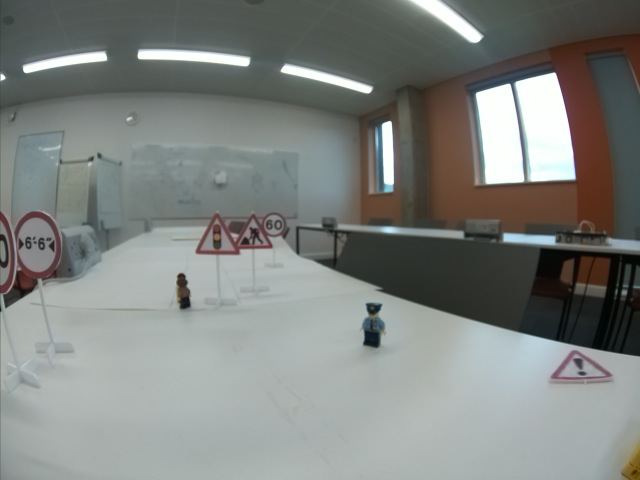60mph: (261, 213, 287, 237)
6ft6: (16, 212, 62, 279)
Lego Man: (359, 302, 390, 348), (175, 272, 192, 312)
Roadworks: (236, 212, 275, 248)
Traffic lights: (194, 213, 240, 255)
Warning: (550, 351, 617, 382)
